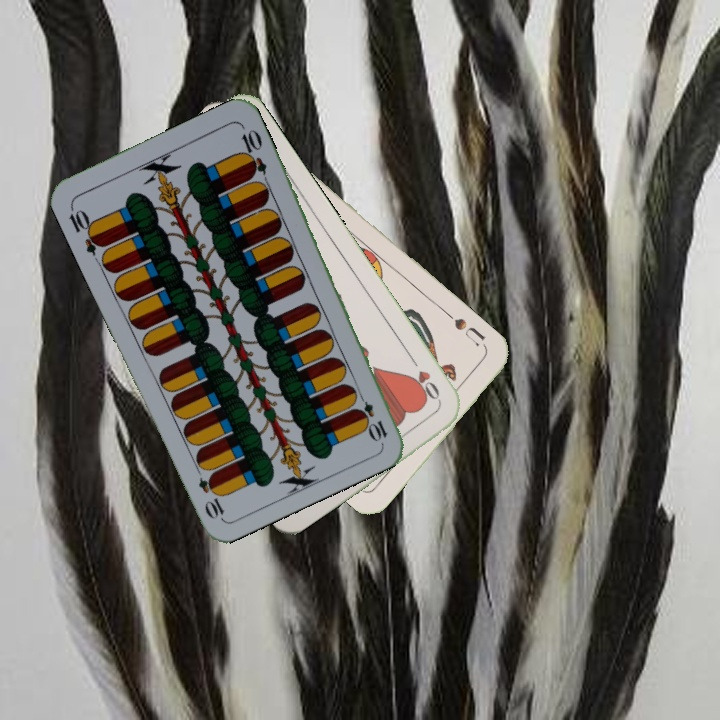E10: (65, 202, 107, 257), (352, 387, 390, 444)
HO: (405, 353, 444, 406)
SU: (450, 314, 489, 349)
